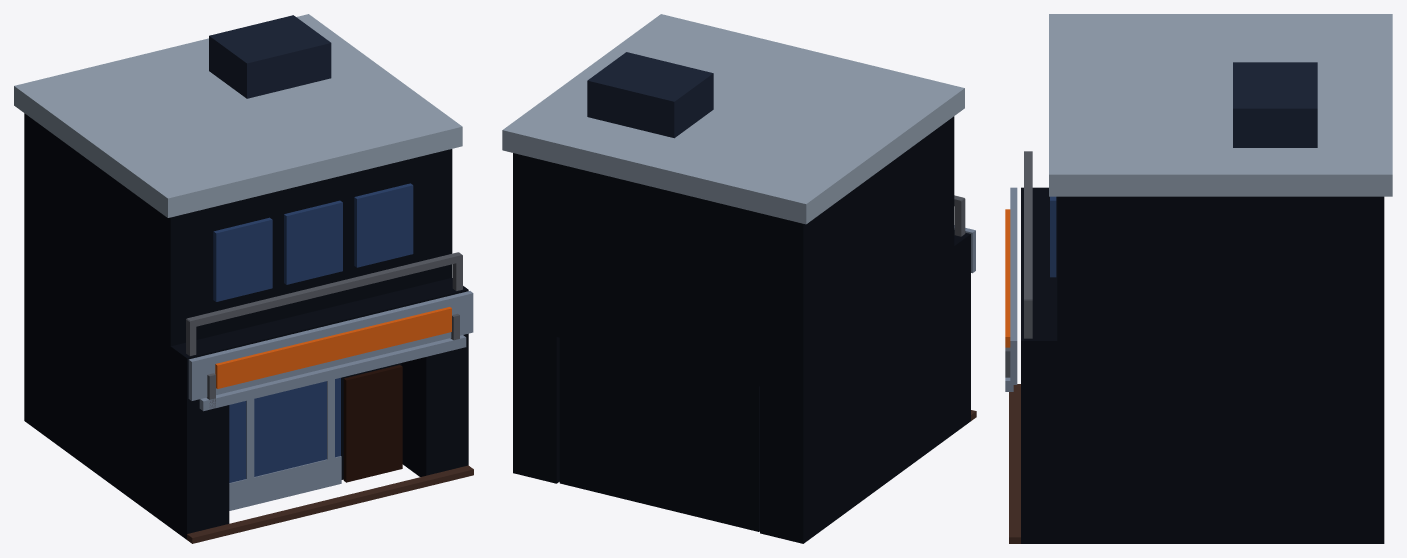
Rendered from highstreet2.obj.
The picture shows the model from 3 angles, left to right: view 1: azimuth 30°, elevation 25°; view 2: azimuth 150°, elevation 25°; view 3: azimuth 270°, elevation 25°; orthographic projection. The views are drawn at different scales.
Visible parts, largest first — view 1: upper-cap, ground-piers, upper-floor, upper-windows, shopfront, roof-plant, shop-door, fascia-sign, fascia, mullions, terrace-rail, shopfront-head (+2 smaller); view 2: upper-floor, upper-cap, ground-piers, ground-back, shopfront-head, roof-plant; view 3: ground-piers, upper-cap, upper-floor, roof-plant, shopfront-head, pavement, terrace-rail, fascia, fascia-sign, upper-windows.
Boxes of the visible parts, x1,y1,x2,y2 form: upper-cap: (14,14,462,217); ground-piers: (24,239,468,539); upper-floor: (24,113,452,346); upper-windows: (213,183,413,301); shopfront: (229,377,340,482); roof-plant: (209,15,331,98); shop-door: (343,365,402,482); fascia-sign: (215,307,451,388); fascia: (188,291,473,400); mullions: (229,379,341,510); terrace-rail: (186,252,462,355); shopfront-head: (213,288,426,349); upper-floor: (513,116,954,356); upper-cap: (502,14,964,224); ground-piers: (513,230,970,543); ground-back: (559,338,759,531); shopfront-head: (556,296,759,386); roof-plant: (587,52,713,138); ground-piers: (1021,187,1384,543); upper-cap: (1049,14,1392,196); upper-floor: (1057,196,1384,340); roof-plant: (1233,62,1317,147); shopfront-head: (1021,210,1057,317); pavement: (1009,384,1020,543); terrace-rail: (1024,151,1032,338); fascia: (1010,187,1017,384); fascia-sign: (1005,209,1010,347); upper-windows: (1050,196,1056,277).
Bounding box in the file's own units: 3.14 × 3.76 × 3.2.
